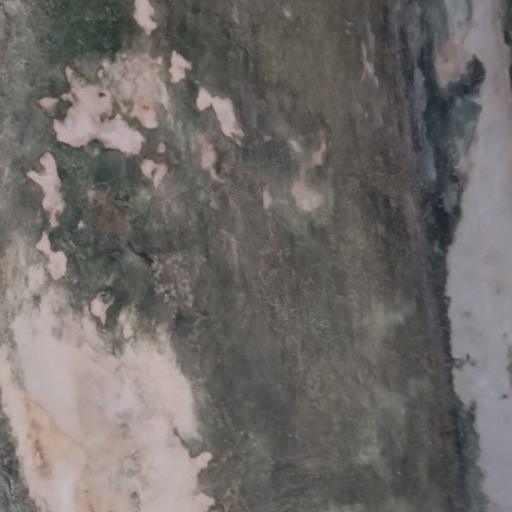algae: (18, 0, 484, 481)
